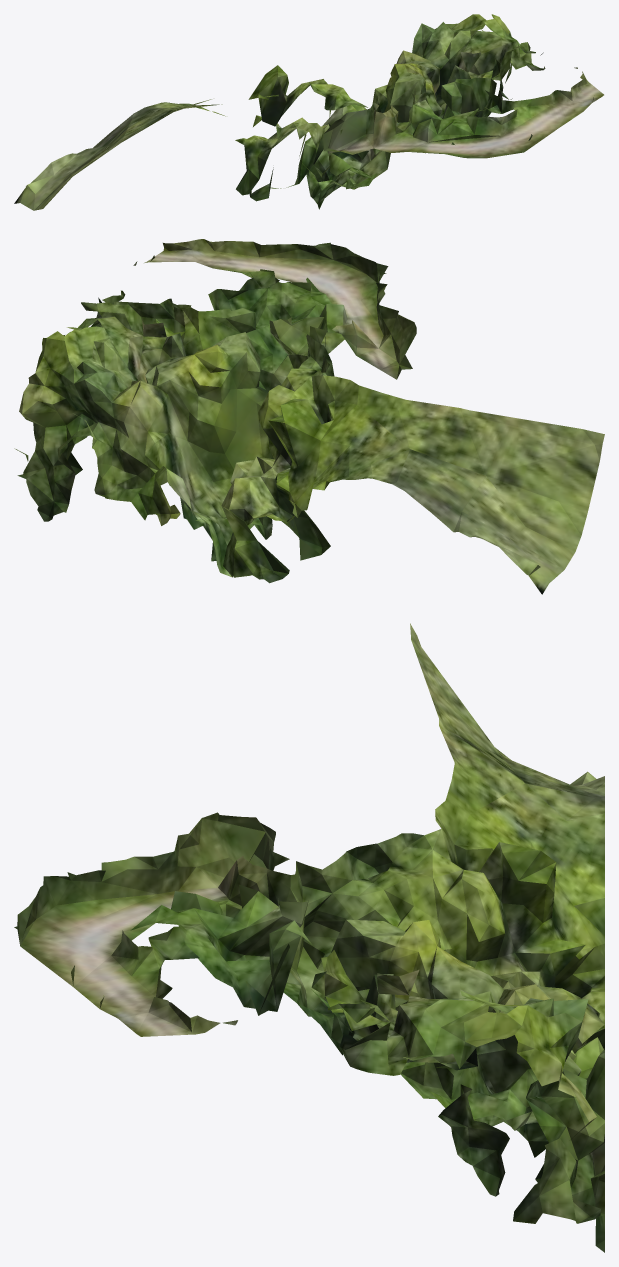
3 renders of one model, top to bottom at view 1: azimuth 30°, elevation 25°; view 2: azimuth 150°, elevation 25°; view 3: azimuth 270°, elevation 25°, orthographic. The views are drawn at different scales.
Bounding box in the file's own units: 104 × 34.95 × 65.23.
Materials: 2 (2 with a texture image).
